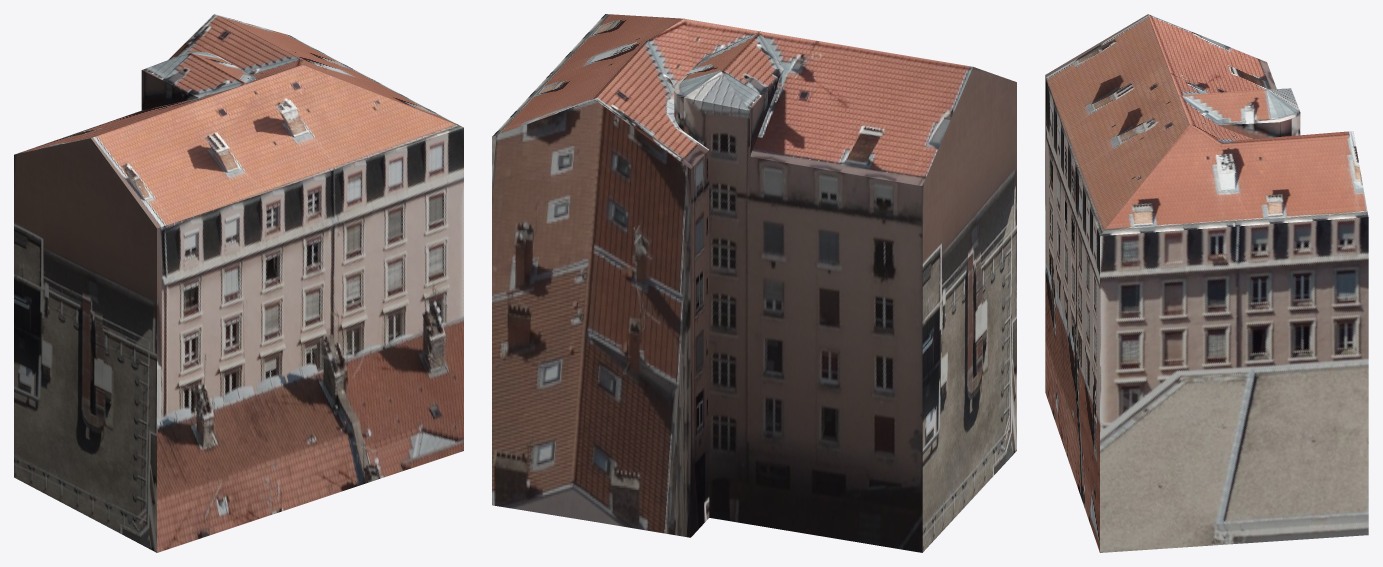
3 renders of one model, left to right at view 1: azimuth 30°, elevation 25°; view 2: azimuth 150°, elevation 25°; view 3: azimuth 270°, elevation 25°, orthographic. The views are drawn at different scales.
Parts seen in each view (by area): view 1: Z_UP; view 2: Z_UP; view 3: Z_UP.
Part boxes in pixels (x1=…): Z_UP: x1=14, y1=14, x2=463, y2=552; Z_UP: x1=492, y1=14, x2=1016, y2=552; Z_UP: x1=1045, y1=14, x2=1368, y2=552.
Bounding box in the file's own units: 26.17 × 26.15 × 20.49.
2 materials, 1 textured.
